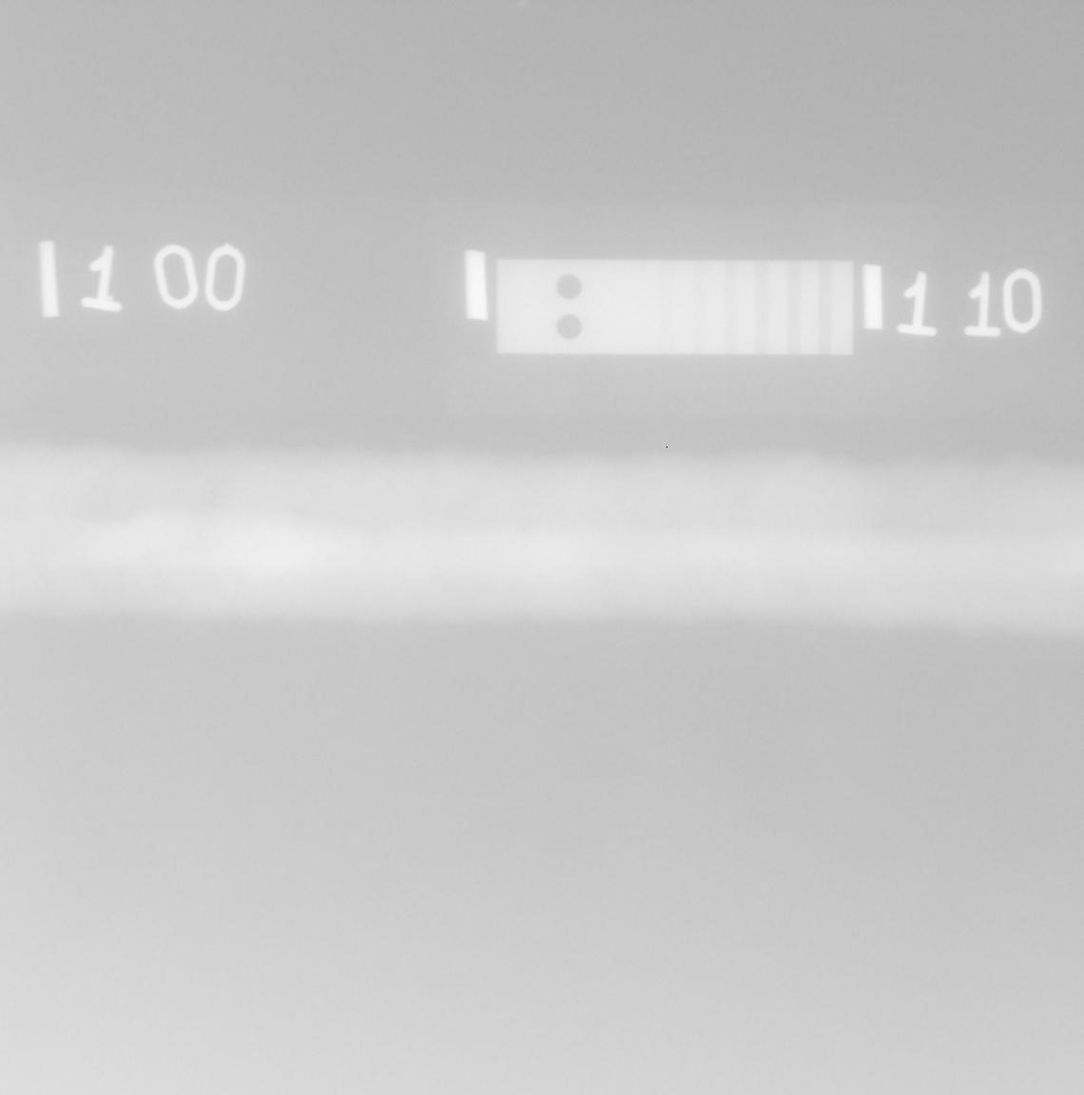Pore/Porosity: (851, 537, 857, 544)
Reference Standard 2: (496, 259, 854, 355)
